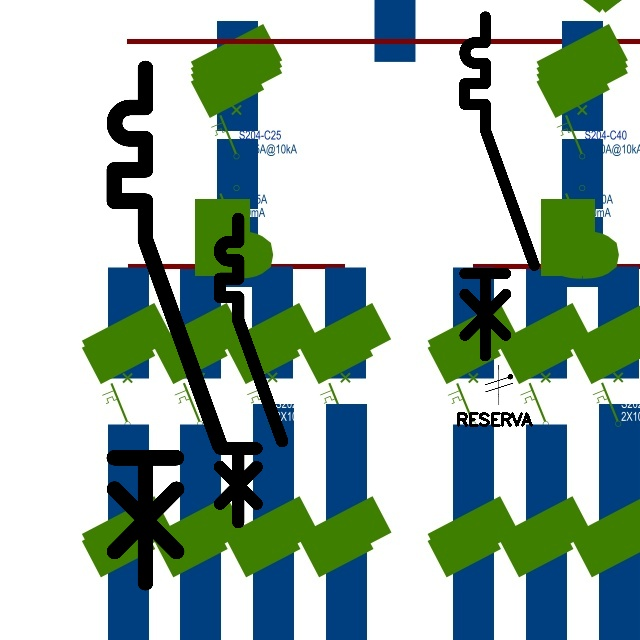interruptor_termomagnetico: (101, 55, 233, 595), (456, 8, 543, 365), (212, 211, 290, 529)
